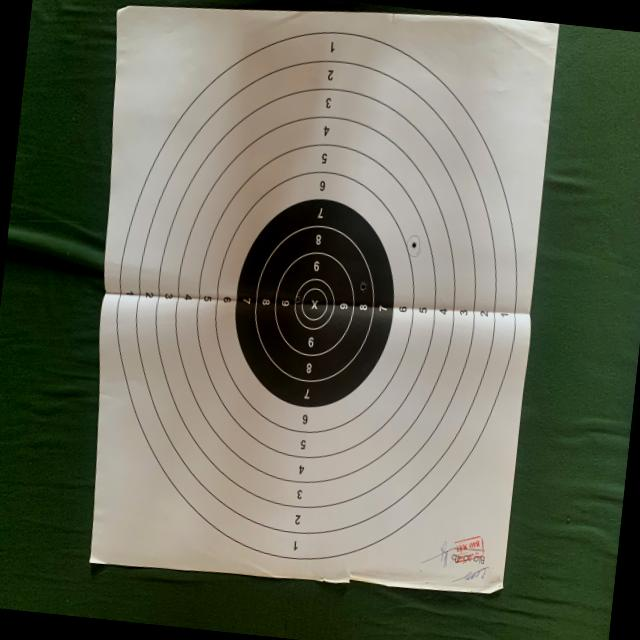bullet: (360, 280, 366, 291), (411, 241, 418, 248), (295, 296, 299, 304)
target: (90, 6, 558, 593)
